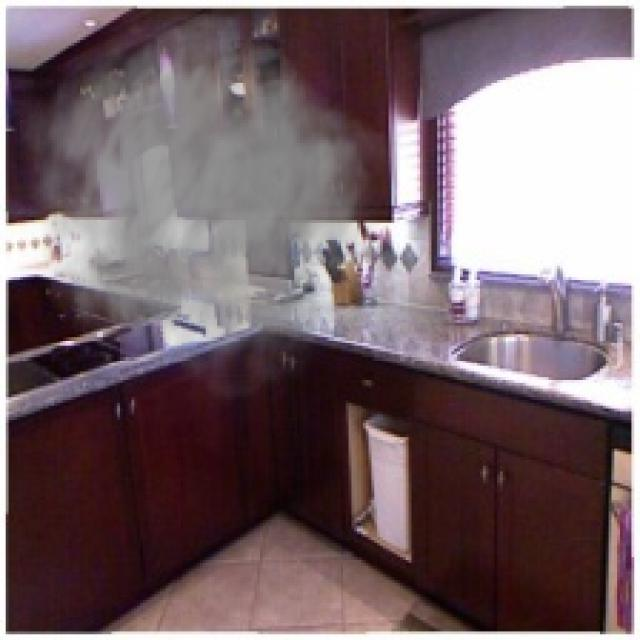smoke: (20, 11, 400, 406)
